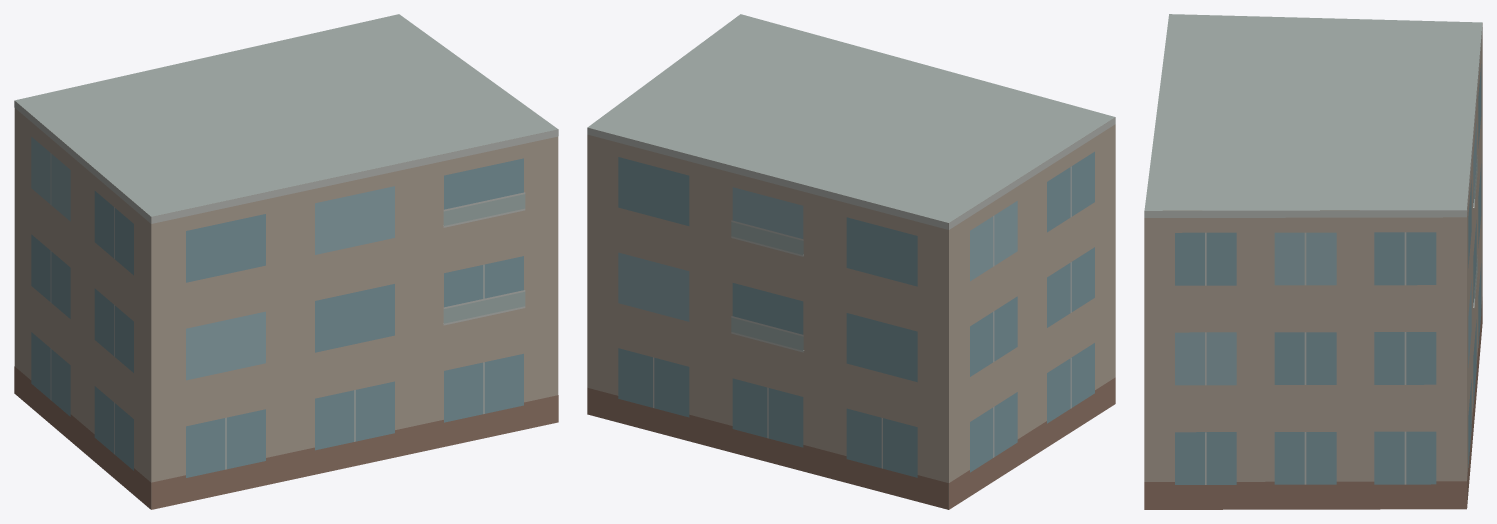
File: survey-upis-32908169.glb
3 views of the same model, side by side, from view 1: azimuth 30°, elevation 25°; view 2: azimuth 150°, elevation 25°; view 3: azimuth 270°, elevation 25° (orthographic). The views are drawn at different scales.
Visible parts, largest first — view 1: survey-upis-32908169.tmp; view 2: survey-upis-32908169.tmp; view 3: survey-upis-32908169.tmp.
Boxes of the visible parts, box(x1,y1,x2,y2) form: survey-upis-32908169.tmp: box(14, 14, 558, 509); survey-upis-32908169.tmp: box(587, 14, 1115, 509); survey-upis-32908169.tmp: box(1144, 14, 1482, 509).
Size of the model in its own units: 14.12 by 10 by 10.26.
